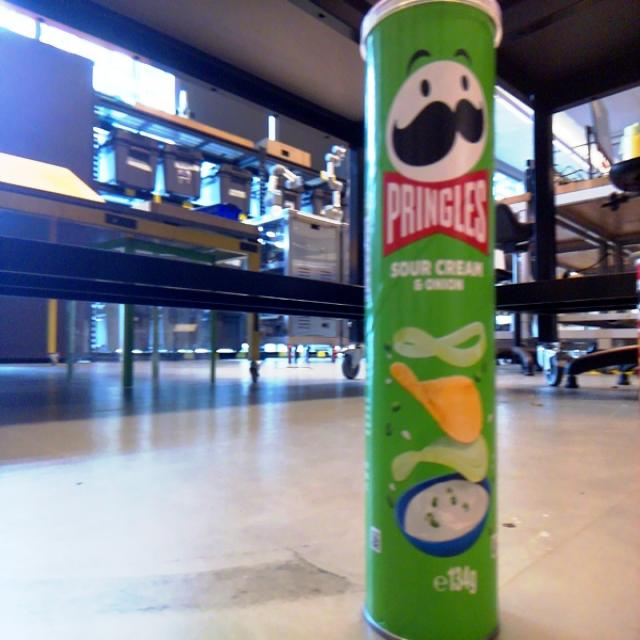greenpringles: (346, 0, 566, 640)
